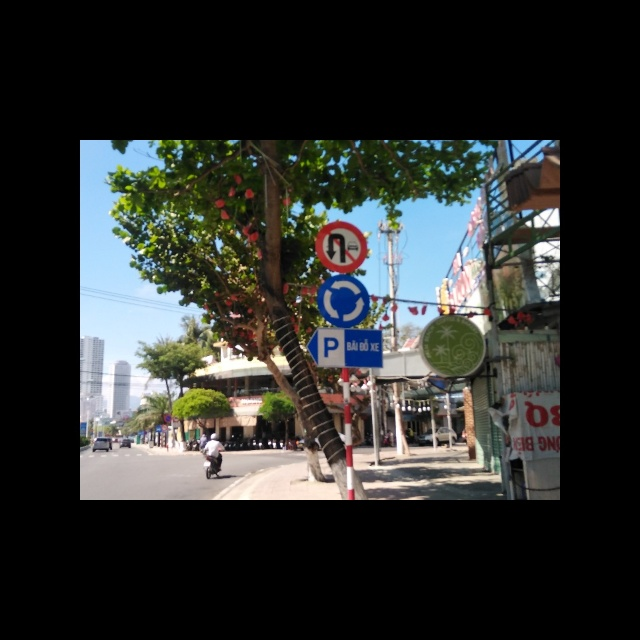Cấm xe ô tô quay đầu: (317, 221, 367, 272)
Nơi giao nhau chạy theo vòng xuyến: (316, 274, 370, 328)
Nơi đỗ xe: (307, 327, 382, 368)
